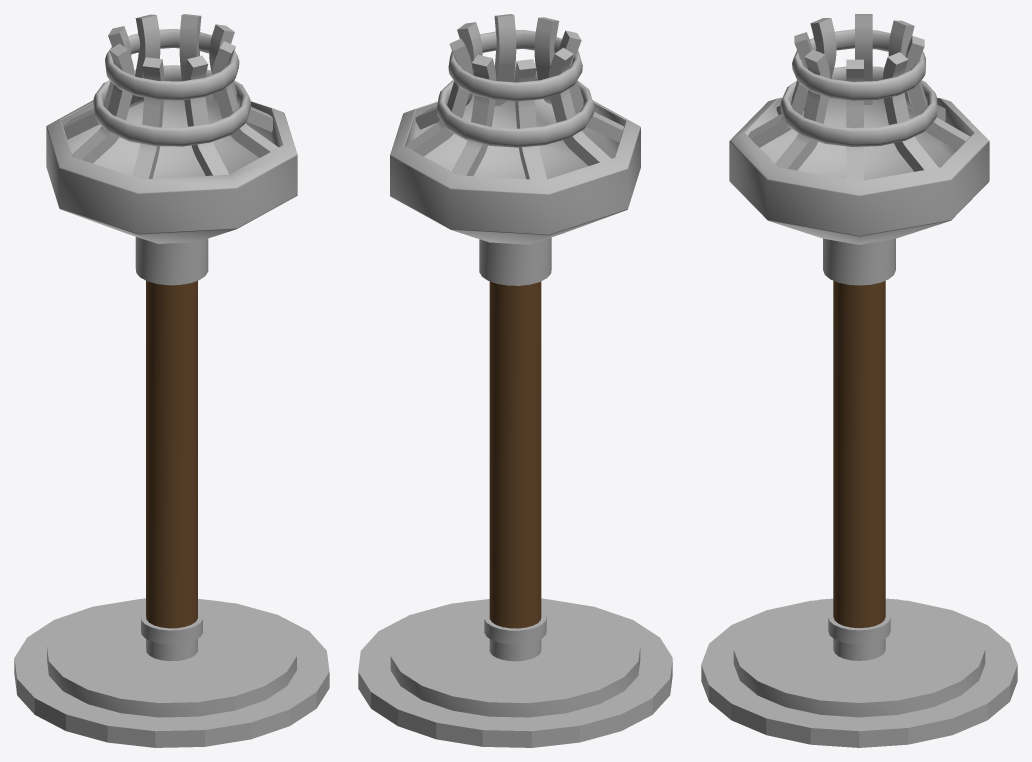
Rendered from Brazier - Copy.fbx.
3 views of the same model, side by side, from view 1: azimuth 30°, elevation 25°; view 2: azimuth 150°, elevation 25°; view 3: azimuth 270°, elevation 25° (orthographic).
Parts seen in each view (by area): view 1: Cylinder.002, Cylindrical Lathe, SplineTorch, Torus, Torus.001, Stake, Spline 2D.006, Spline 2D.004, Spline 2D.005, Spline 2D.003, Spline 2D, Cylinder (+4 smaller); view 2: Cylinder.002, Cylindrical Lathe, SplineTorch, Torus, Torus.001, Stake, Spline 2D, Spline 2D.006, Spline 2D.001, Spline 2D.007, Spline 2D.003, Spline 2D.005 (+4 smaller); view 3: Cylinder.002, Cylindrical Lathe, SplineTorch, Torus, Torus.001, Stake, Spline 2D.003, Spline 2D.001, Spline 2D, Spline 2D.002, Spline 2D.004, Cylinder (+4 smaller).
Part boxes in pixels (left/top/right/bottom): Cylinder.002: left=14, top=598, right=329, bottom=747; Cylindrical Lathe: left=46, top=93, right=297, bottom=243; SplineTorch: left=146, top=281, right=197, bottom=628; Torus: left=93, top=65, right=250, bottom=146; Torus.001: left=105, top=29, right=239, bottom=100; Stake: left=135, top=237, right=208, bottom=285; Spline 2D.006: left=72, top=43, right=134, bottom=163; Spline 2D.004: left=183, top=55, right=229, bottom=175; Spline 2D.005: left=132, top=57, right=164, bottom=179; Spline 2D.003: left=212, top=41, right=278, bottom=157; Spline 2D: left=129, top=14, right=160, bottom=107; Cylinder: left=141, top=610, right=202, bottom=644; Cylinder.002: left=358, top=598, right=672, bottom=747; Cylindrical Lathe: left=390, top=95, right=640, bottom=244; SplineTorch: left=489, top=281, right=541, bottom=628; Torus: left=437, top=66, right=594, bottom=147; Torus.001: left=448, top=30, right=582, bottom=101; Stake: left=479, top=237, right=551, bottom=285; Spline 2D: left=451, top=54, right=496, bottom=176; Spline 2D.006: left=548, top=47, right=611, bottom=165; Spline 2D.001: left=406, top=38, right=472, bottom=156; Spline 2D.007: left=514, top=59, right=547, bottom=180; Spline 2D.003: left=494, top=14, right=516, bottom=105; Spline 2D.005: left=559, top=30, right=623, bottom=142; Cylinder.002: left=701, top=598, right=1017, bottom=747; Cylindrical Lathe: left=729, top=97, right=989, bottom=244; SplineTorch: left=833, top=280, right=885, bottom=628; Torus: left=780, top=66, right=937, bottom=146; Torus.001: left=792, top=29, right=925, bottom=100; Stake: left=823, top=238, right=895, bottom=285; Spline 2D.003: left=775, top=49, right=830, bottom=170; Spline 2D.001: left=882, top=52, right=938, bottom=171; Spline 2D: left=905, top=36, right=970, bottom=149; Spline 2D.002: left=846, top=59, right=863, bottom=181; Spline 2D.004: left=748, top=32, right=812, bottom=147; Cylinder: left=828, top=610, right=890, bottom=644.
Bounding box in the file's own units: 30.41 × 68.25 × 30.41.
